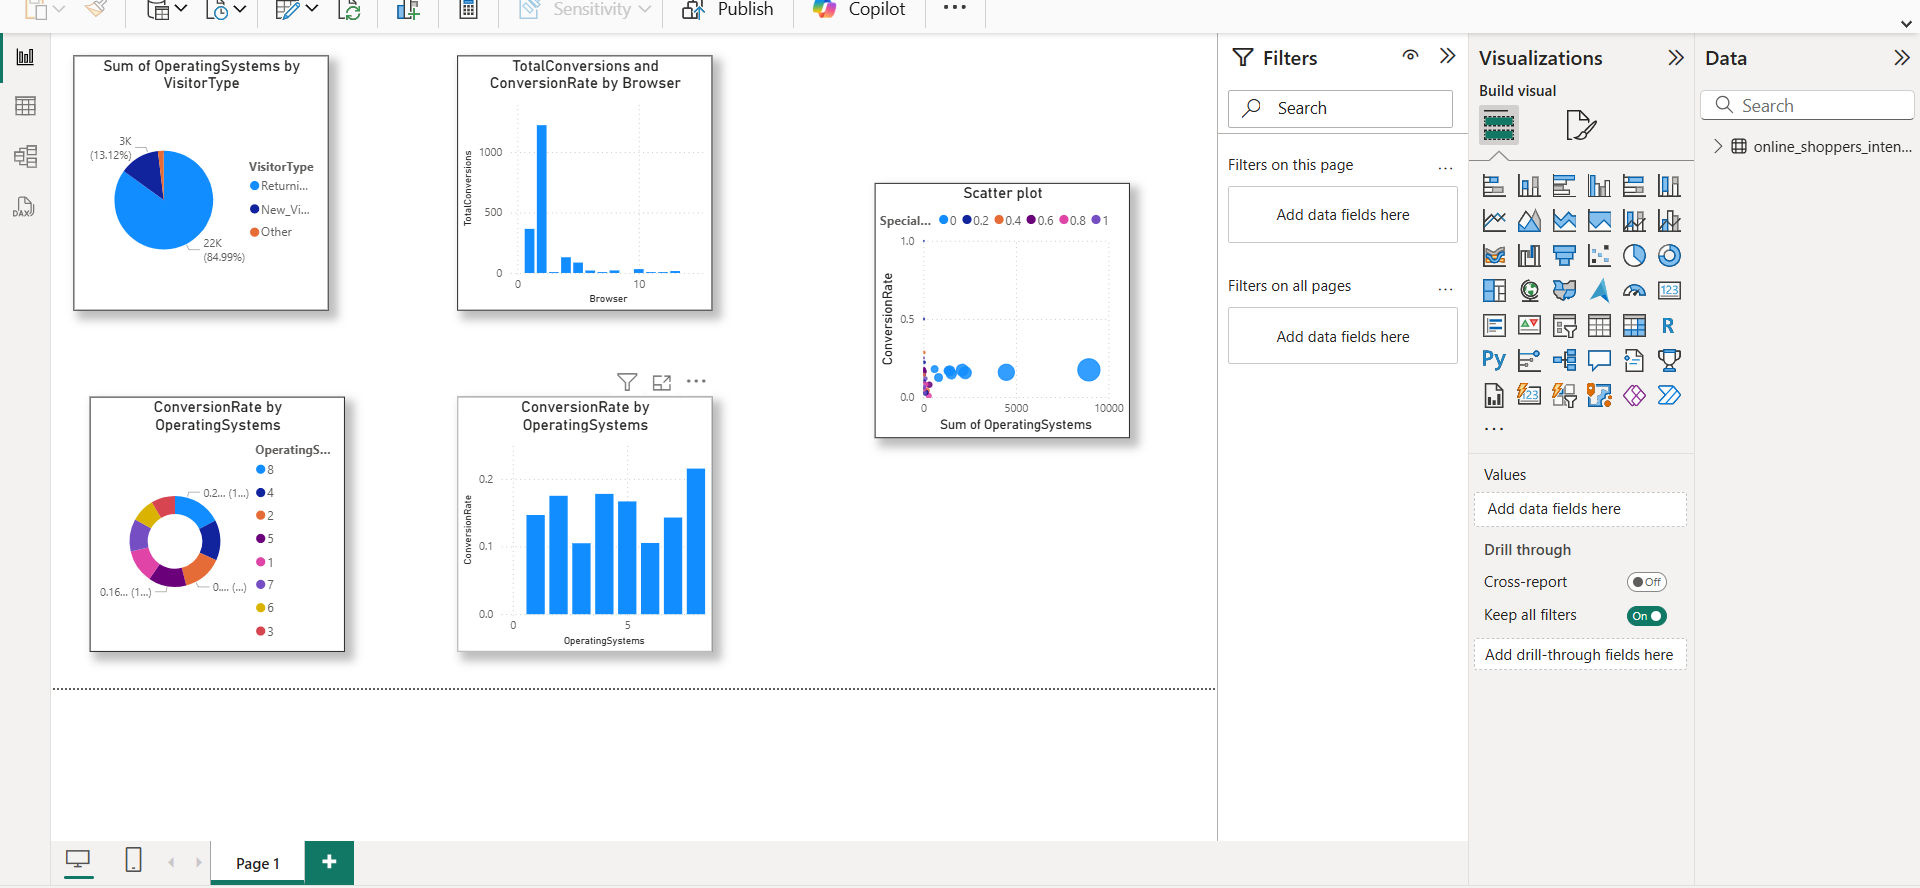

What the dashboard file says about the page in this screenshot:
{"tool":"powerbi","page":{"name":"Page 1","canvas":[1280,720],"ordinal":0},"visuals":[{"type":"pieChart","fields":{"Category":["online_shoppers_intention.VisitorType"],"Y":["Sum(online_shoppers_intention.OperatingSystems)"]},"box":[24.7,24.7,279.9,279.9],"z":0},{"type":"clusteredColumnChart","fields":{"Category":["online_shoppers_intention.Browser"],"Y":["online_shoppers_intention.TotalConversions"]},"box":[446,24.7,279.9,279.9],"z":1},{"type":"donutChart","fields":{"Category":["online_shoppers_intention.OperatingSystems"],"Y":["online_shoppers_intention.ConversionRate"]},"box":[42.5,399.3,279.9,279.9],"z":2},{"type":"clusteredColumnChart","fields":{"Category":["online_shoppers_intention.OperatingSystems"],"Y":["online_shoppers_intention.ConversionRate"]},"box":[446,399.3,279.9,279.9],"z":3},{"type":"scatterChart","title":"Scatter plot","fields":{"X":["Sum(online_shoppers_intention.OperatingSystems)"],"Y":["online_shoppers_intention.ConversionRate"],"Category":["online_shoppers_intention.Region"],"Size":["online_shoppers_intention.TotalSessions"],"Series":["online_shoppers_intention.SpecialDay"]},"box":[904.3,164.7,279.9,279.9],"z":4}]}

Visuals, with their boxes on the page's 1280x720 design canvas (x1, y1, x2, y2). These are canvas units, not pixel positions in the 1920x888 screenshot, which may show the page scaled, cropped or inside an application window:
pieChart - online_shoppers_intention.VisitorType x Sum(online_shoppers_intention.OperatingSystems): locate(25, 25, 305, 305)
clusteredColumnChart - online_shoppers_intention.Browser x online_shoppers_intention.TotalConversions: locate(446, 25, 726, 305)
donutChart - online_shoppers_intention.OperatingSystems x online_shoppers_intention.ConversionRate: locate(42, 399, 322, 679)
clusteredColumnChart - online_shoppers_intention.OperatingSystems x online_shoppers_intention.ConversionRate: locate(446, 399, 726, 679)
"Scatter plot" scatterChart: locate(904, 165, 1184, 445)
